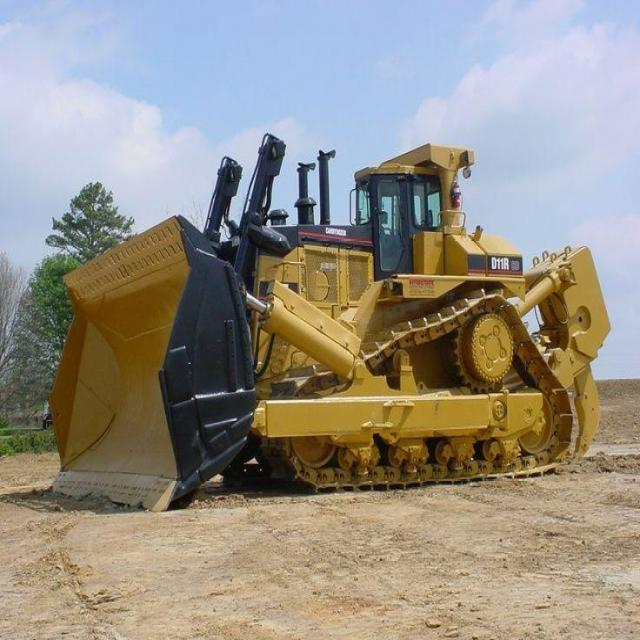Bulldozer: (32, 112, 615, 520)
